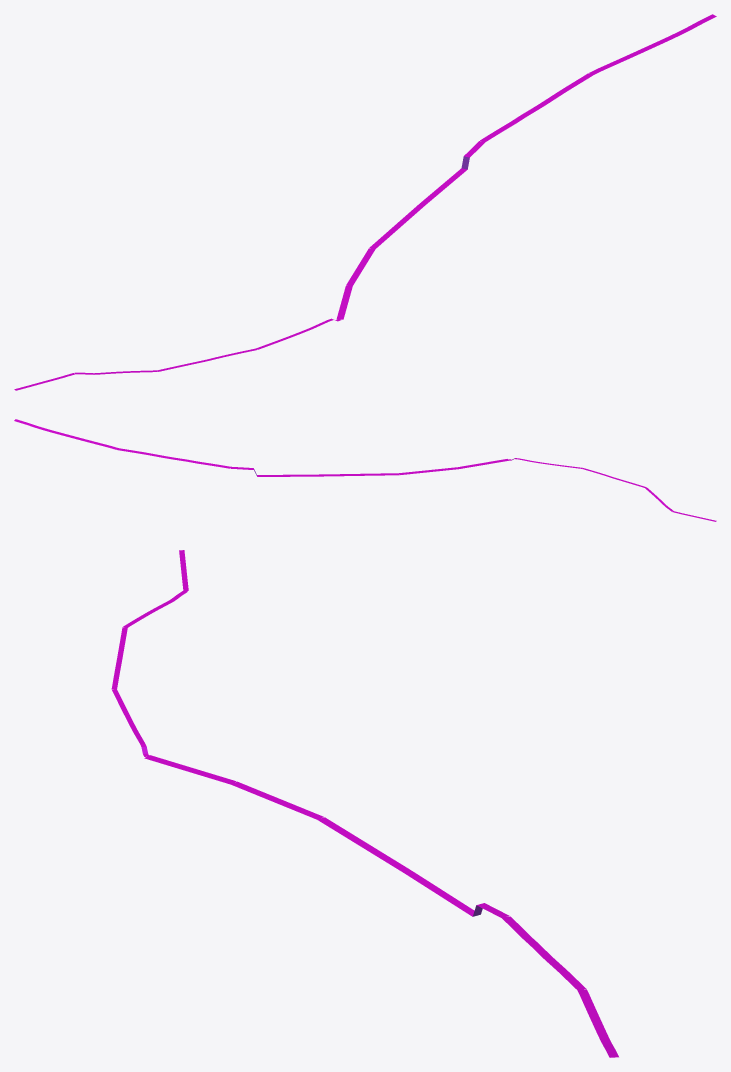
The model's file is railway.fbx.
3 views of the same model, one above another, from view 1: azimuth 30°, elevation 25°; view 2: azimuth 150°, elevation 25°; view 3: azimuth 270°, elevation 25° (orthographic). The views are drawn at different scales.
Visible parts, largest first — view 1: railway; view 2: railway; view 3: railway.
Boxes of the visible parts, x1,y1,x2,y2 form: railway: (14,14,716,390); railway: (14,419,716,521); railway: (111,550,618,1057).
Size of the model in its own units: 1261 by 72.72 by 467.
